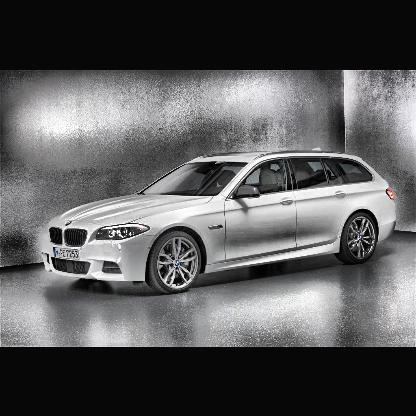BMW 3 Series Wagon 2012: (43, 148, 396, 297)
